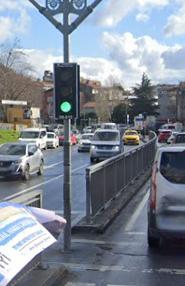greenlight: (54, 63, 79, 114)
